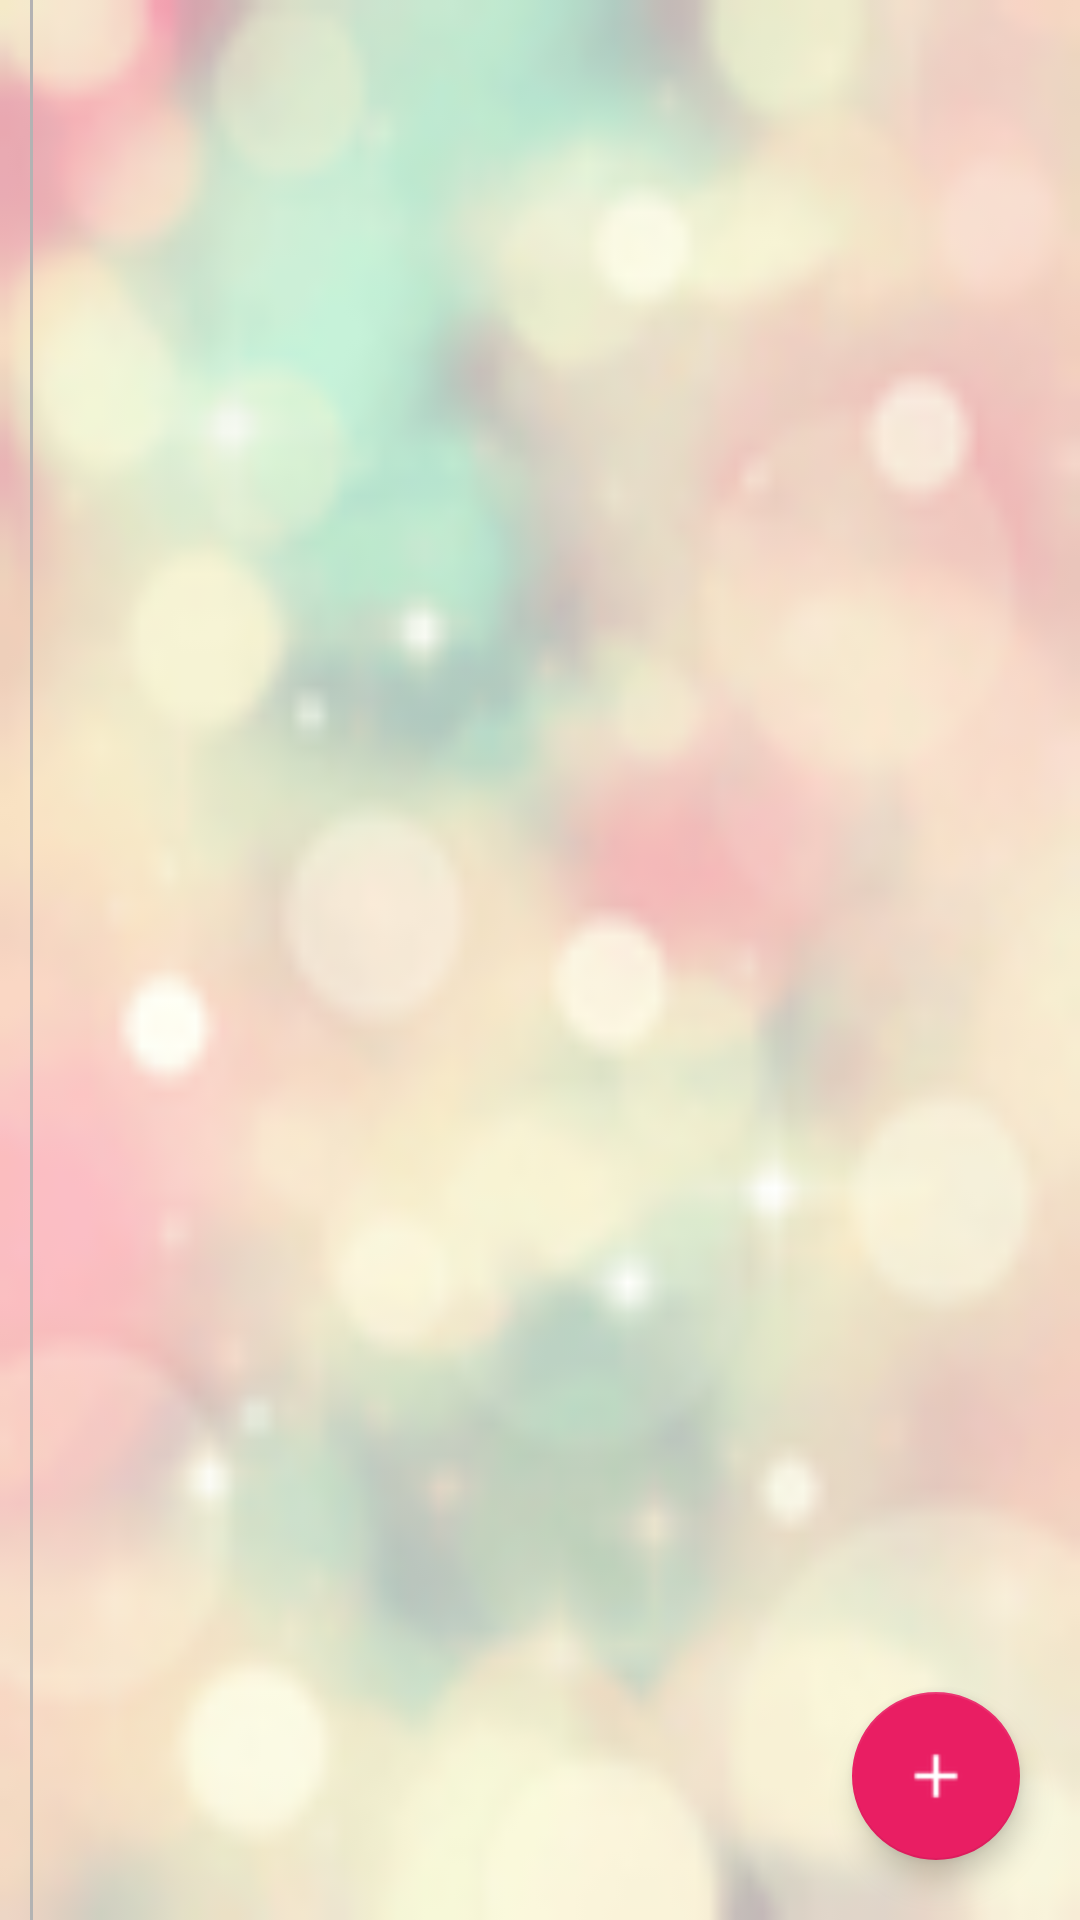

Icon click points for this 1080px x 1920px phone screenshot, format (x,y):
add: (936,1776)
